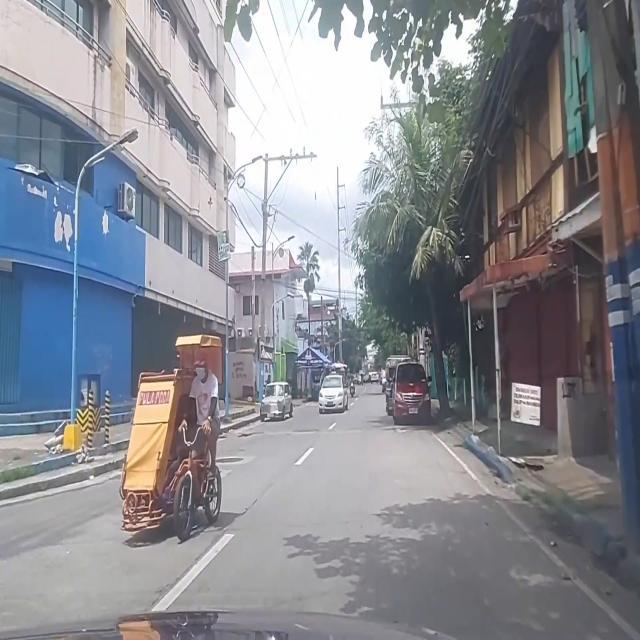car: (392, 362, 432, 424), (318, 374, 348, 414)
jeepney: (386, 355, 410, 416)
motorcycle: (350, 374, 356, 398)
tricycle: (119, 336, 222, 542)
